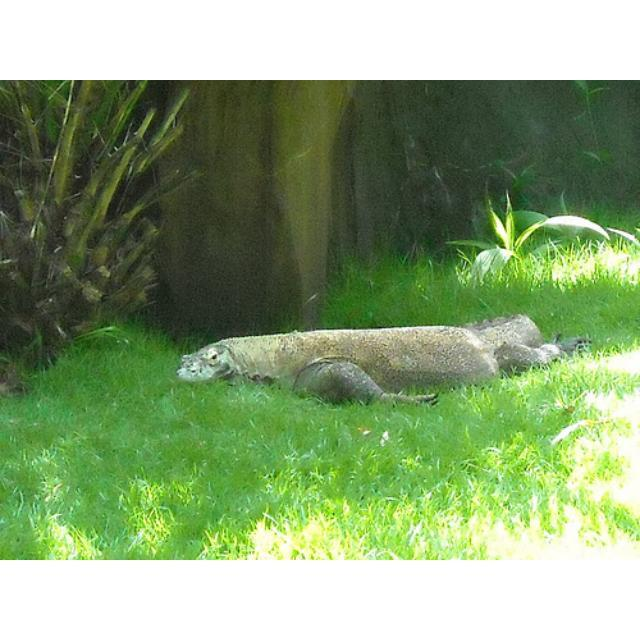KomodoDragon: (174, 312, 590, 408)
